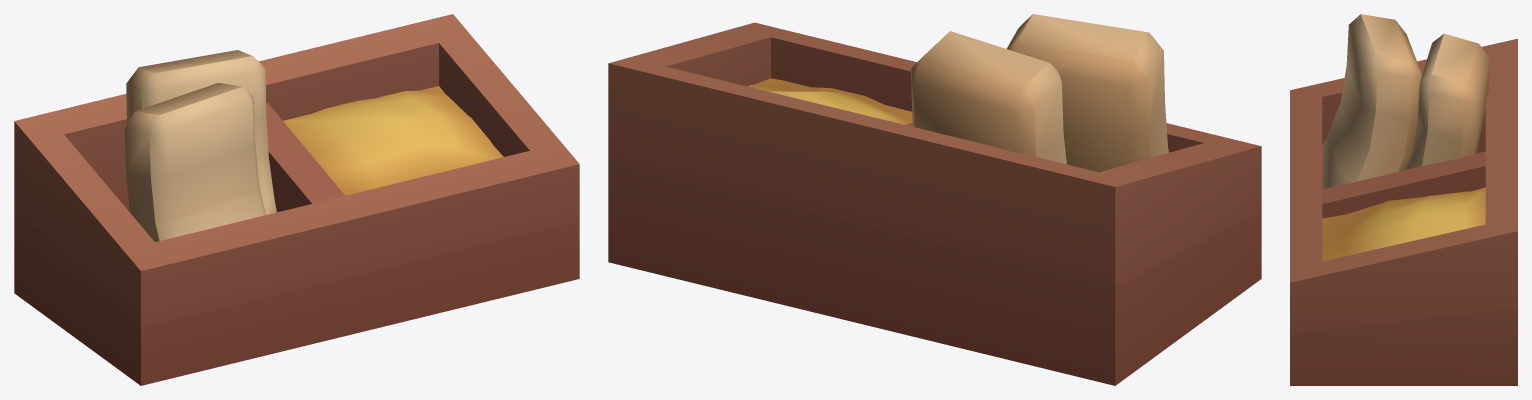
Rendered from crate_long_C.glb.
The picture shows the model from 3 angles, left to right: view 1: azimuth 30°, elevation 25°; view 2: azimuth 150°, elevation 25°; view 3: azimuth 270°, elevation 25°; orthographic projection. The views are drawn at different scales.
Visible parts, largest first — view 1: crate_long_C; view 2: crate_long_C; view 3: crate_long_C.
Boxes of the visible parts, box(x1,y1,x2,y2) form: crate_long_C: box(14, 14, 579, 385); crate_long_C: box(608, 14, 1261, 385); crate_long_C: box(1290, 14, 1517, 385).
Bounding box in the file's own units: 0.4 × 0.1985 × 0.2.
1 material, 1 textured.
